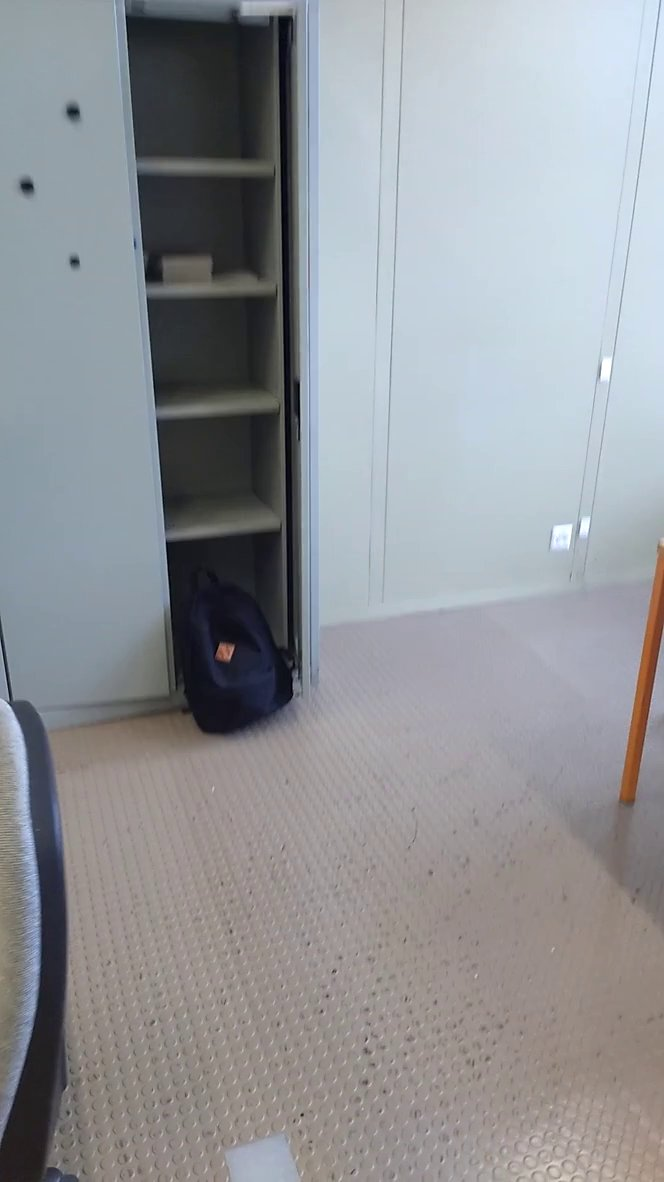bag: (167, 558, 307, 742)
